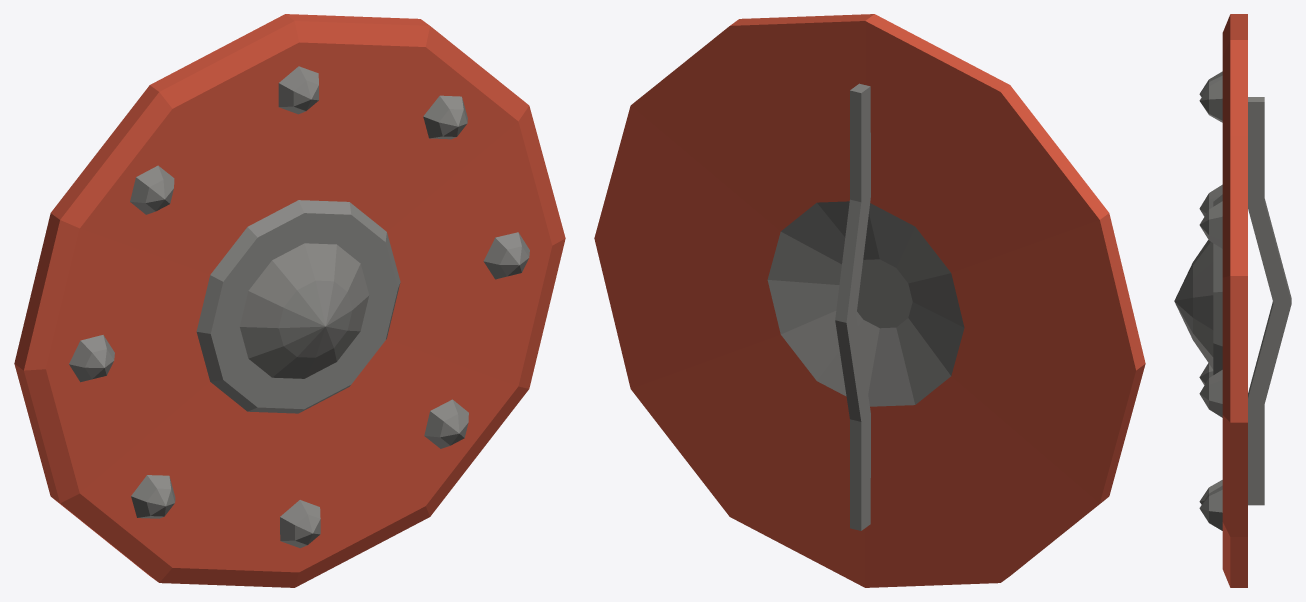
File: SM_pwe_gauls_shield_03.fbx
3 renders of one model, left to right at view 1: azimuth 30°, elevation 25°; view 2: azimuth 150°, elevation 25°; view 3: azimuth 270°, elevation 25°, orthographic. The views are drawn at different scales.
Parts seen in each view (by area): view 1: SM_pwe_gauls_shield_03; view 2: SM_pwe_gauls_shield_03; view 3: SM_pwe_gauls_shield_03.
Boxes of the visible parts, left/top/right/bottom form: SM_pwe_gauls_shield_03: left=14, top=14, right=565, bottom=587; SM_pwe_gauls_shield_03: left=594, top=14, right=1145, bottom=587; SM_pwe_gauls_shield_03: left=1174, top=14, right=1291, bottom=587.
Bounding box in the file's own units: 70.58 × 70.58 × 14.4.
